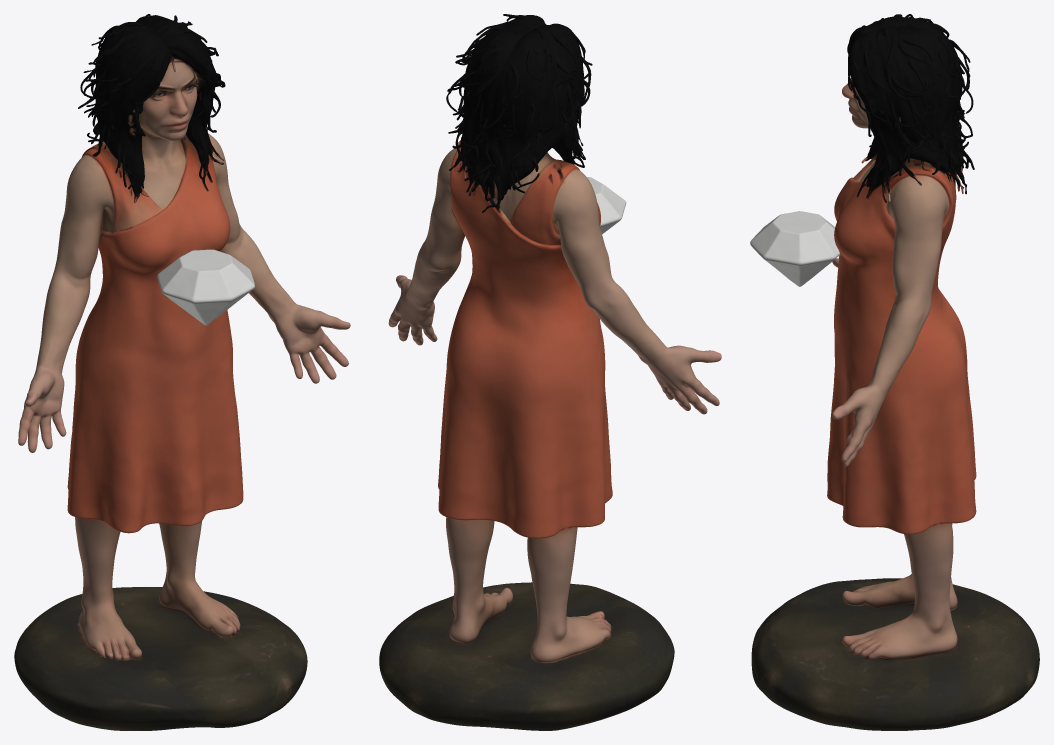
The model's file is 15-la-gina-y-el-diamante-optimized.glb.
3 renders of one model, left to right at view 1: azimuth 30°, elevation 25°; view 2: azimuth 150°, elevation 25°; view 3: azimuth 270°, elevation 25°, orthographic.
Parts seen in each view (by area): view 1: tripo_node_5d21944f-70dc-4a57-95cc-a4736cc8519a; view 2: tripo_node_5d21944f-70dc-4a57-95cc-a4736cc8519a; view 3: tripo_node_5d21944f-70dc-4a57-95cc-a4736cc8519a.
Part boxes in pixels (x1,y1,x2,y2): tripo_node_5d21944f-70dc-4a57-95cc-a4736cc8519a: (14,14,350,730); tripo_node_5d21944f-70dc-4a57-95cc-a4736cc8519a: (379,14,721,730); tripo_node_5d21944f-70dc-4a57-95cc-a4736cc8519a: (750,14,1039,730).
Size of the model in its own units: 0.5211 by 1 by 0.3996.
Materials: 1 (1 with a texture image).
